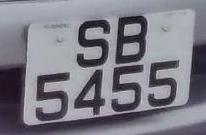4: (69, 63, 115, 120)
5: (30, 61, 72, 129), (143, 54, 183, 114), (108, 66, 146, 115)
B: (112, 13, 154, 64)
S: (68, 17, 115, 69)
